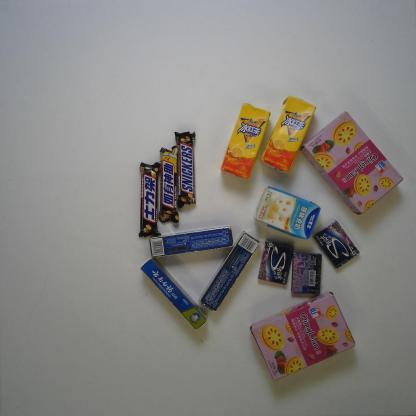Chocolate: (138, 160, 163, 238), (157, 145, 180, 224), (173, 131, 196, 209)
Dessert: (303, 109, 404, 216), (250, 291, 357, 381)
Drink: (260, 95, 317, 175), (221, 100, 270, 184)
Gum: (312, 218, 359, 267), (258, 238, 295, 284), (290, 250, 323, 296)
Milk: (256, 188, 320, 240)
Personal Hygiene: (197, 231, 261, 313), (140, 257, 208, 331), (147, 226, 235, 258)
